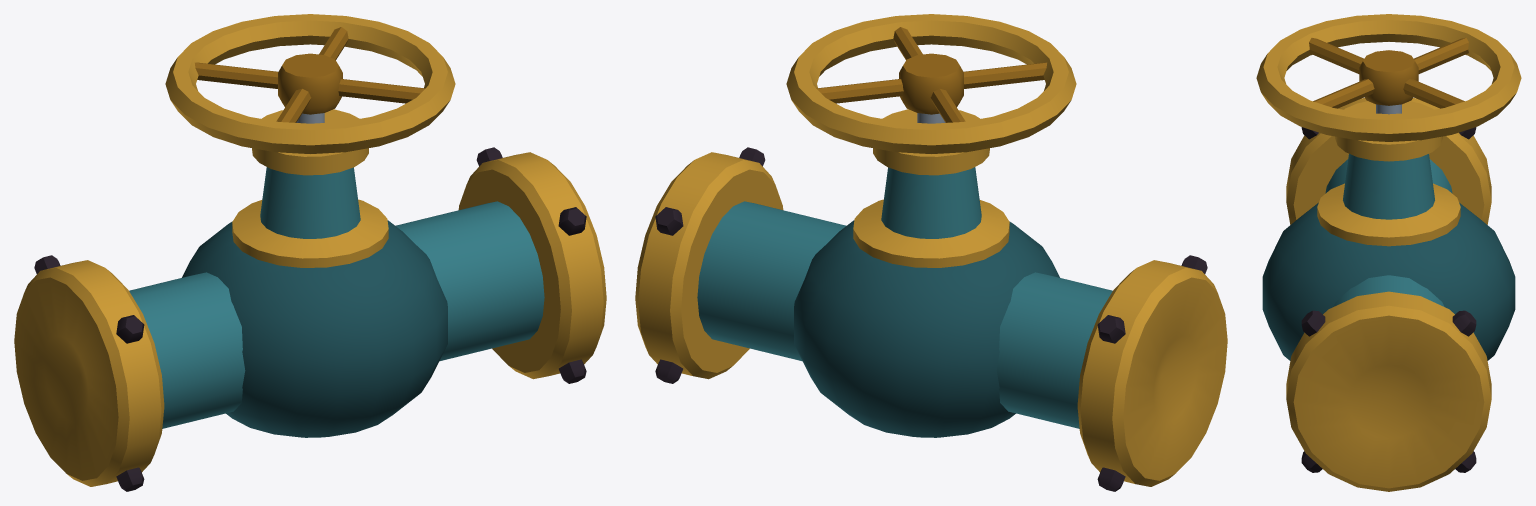
Rendered from Valve_19.glb.
3 renders of one model, left to right at view 1: azimuth 30°, elevation 25°; view 2: azimuth 150°, elevation 25°; view 3: azimuth 270°, elevation 25°, orthographic. The views are drawn at different scales.
Parts seen in each view (by area): view 1: Valve_19; view 2: Valve_19; view 3: Valve_19.
Boxes of the visible parts, box(x1,y1,x2,y2) form: Valve_19: box(14, 14, 606, 491); Valve_19: box(635, 14, 1227, 491); Valve_19: box(1256, 14, 1521, 491).
Size of the model in its own units: 2.77 by 1.94 by 1.42.
